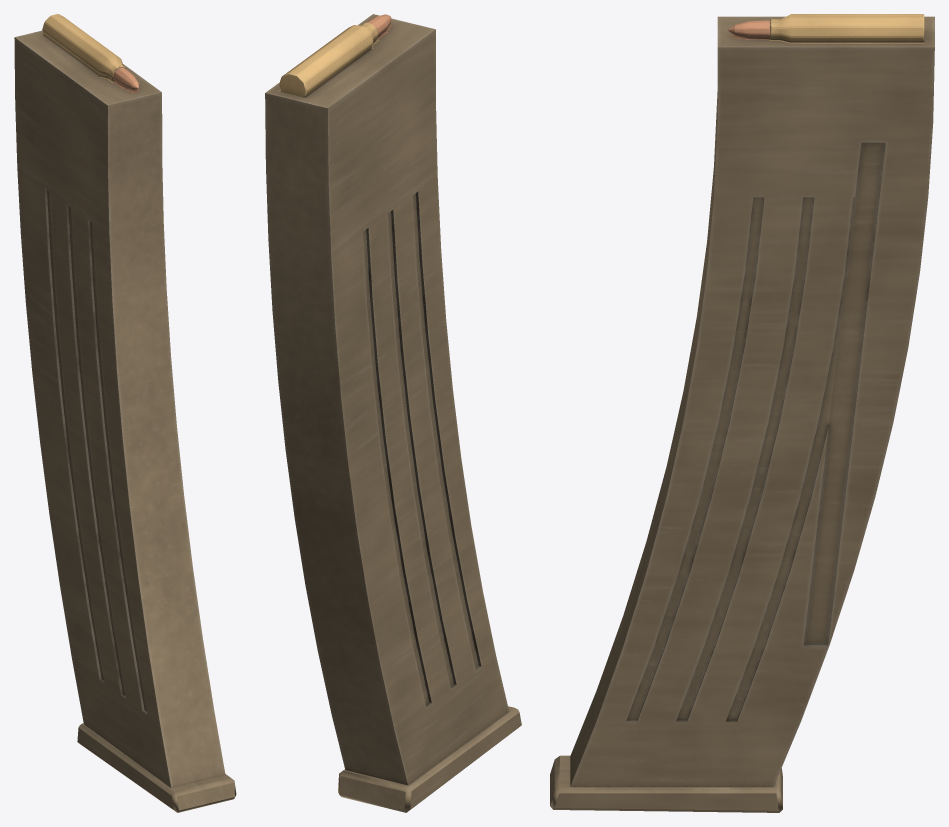
Rendered from ext_mag.glb.
The picture shows the model from 3 angles, left to right: view 1: azimuth 30°, elevation 25°; view 2: azimuth 150°, elevation 25°; view 3: azimuth 270°, elevation 25°; orthographic projection. The views are drawn at different scales.
Parts seen in each view (by area): view 1: ext_mag; view 2: ext_mag; view 3: ext_mag.
Boxes of the visible parts, box(x1,y1,x2,y2) form: ext_mag: box(14, 14, 236, 812); ext_mag: box(265, 14, 521, 812); ext_mag: box(550, 14, 934, 812).
Size of the model in its own units: 0.024 by 0.2475 by 0.1099.
1 material, 1 textured.
